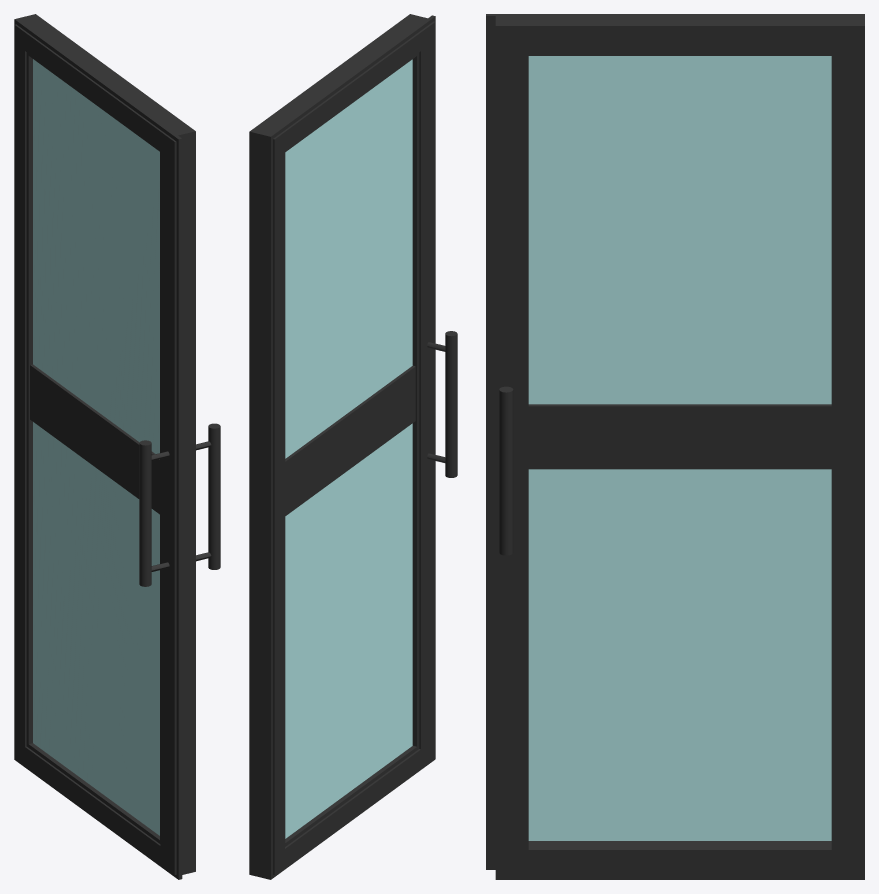
File: SM_Door_Sauna_01.fbx
The picture shows the model from 3 angles, left to right: view 1: azimuth 30°, elevation 25°; view 2: azimuth 150°, elevation 25°; view 3: azimuth 270°, elevation 25°; orthographic projection. The views are drawn at different scales.
Visible parts, largest first — view 1: SM_Door_Sauna_01_LOD0; view 2: SM_Door_Sauna_01_LOD0; view 3: SM_Door_Sauna_01_LOD0.
Boxes of the visible parts, x1,y1,x2,y2 form: SM_Door_Sauna_01_LOD0: (14, 14, 220, 879); SM_Door_Sauna_01_LOD0: (249, 14, 457, 879); SM_Door_Sauna_01_LOD0: (486, 14, 864, 879).
Size of the model in its own units: 22.37 by 80 by 199.
